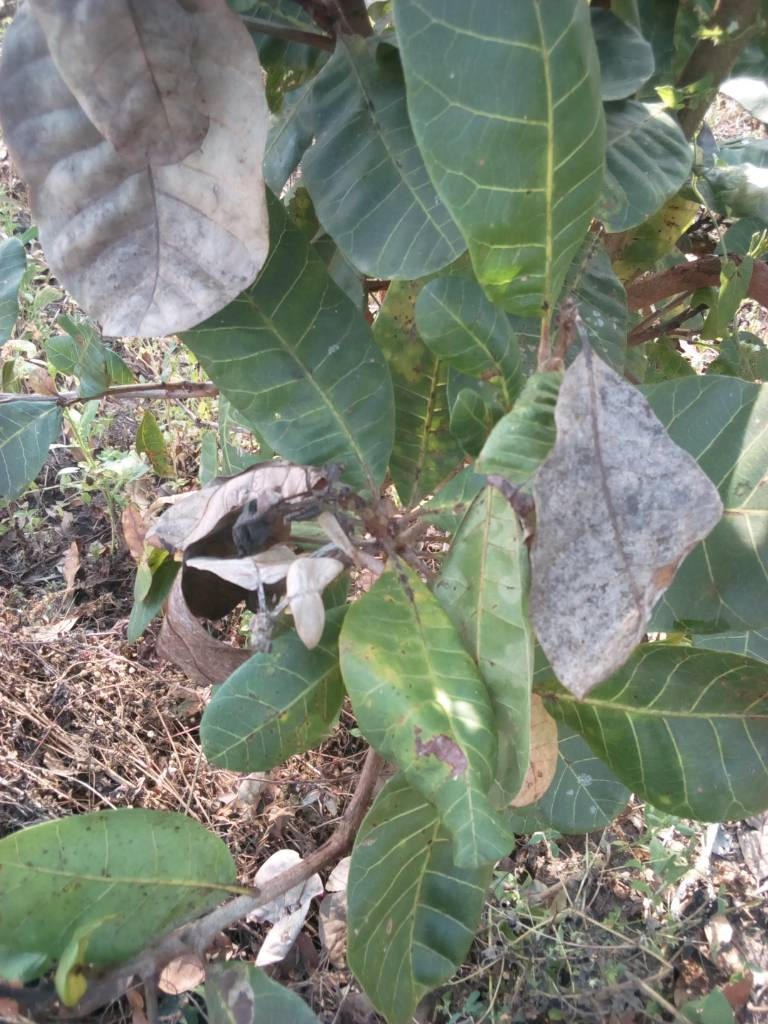Dessèchement des bourgeons: (147, 461, 335, 563)
